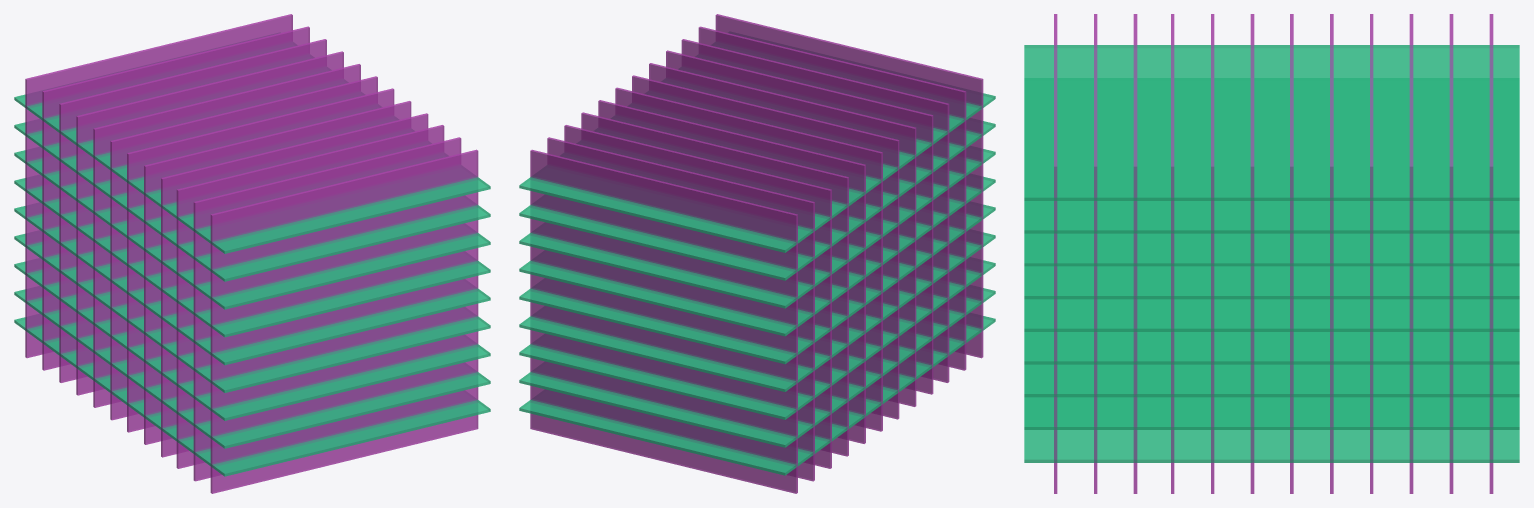
File: cross.glb
The picture shows the model from 3 angles, left to right: view 1: azimuth 30°, elevation 25°; view 2: azimuth 150°, elevation 25°; view 3: azimuth 270°, elevation 25°; orthographic projection. The views are drawn at different scales.
Parts seen in each view (by area): view 1: Cube.002, Cube.022, Cube.024, Cube.019, Cube.018, Cube.015, Cube.003, Cube.016, Cube.001, Cube.013, Cube.017, Cube.014 (+9 smaller); view 2: Cube.018, Cube.002, Cube.024, Cube.014, Cube.001, Cube.017, Cube.003, Cube.015, Cube.019, Cube.016, Cube.013, Cube.022 (+9 smaller); view 3: Cube.012, Cube.010, Cube.006, Cube.007, Cube.011, Cube.009, Cube.008, Cube.005, Cube.004, Cube.019, Cube.022, Cube.013 (+9 smaller).
Part boxes in pixels (x1,y1,x2,y2): Cube.002: [210, 149, 478, 493]; Cube.022: [176, 125, 444, 468]; Cube.024: [193, 137, 461, 481]; Cube.019: [42, 26, 309, 370]; Cube.018: [25, 14, 292, 358]; Cube.015: [93, 64, 360, 407]; Cube.003: [59, 39, 326, 382]; Cube.016: [76, 51, 343, 395]; Cube.001: [144, 101, 411, 444]; Cube.013: [127, 88, 394, 432]; Cube.017: [110, 76, 377, 420]; Cube.014: [161, 113, 428, 457]; Cube.018: [530, 149, 797, 493]; Cube.002: [715, 14, 983, 358]; Cube.024: [698, 26, 966, 370]; Cube.014: [666, 50, 933, 394]; Cube.001: [649, 63, 916, 406]; Cube.017: [615, 87, 882, 431]; Cube.003: [564, 125, 831, 468]; Cube.015: [598, 100, 865, 443]; Cube.019: [547, 137, 814, 481]; Cube.016: [581, 112, 848, 456]; Cube.013: [632, 75, 899, 419]; Cube.022: [681, 39, 949, 382]; Cube.012: [1024, 45, 1519, 200]; Cube.010: [1024, 266, 1519, 299]; Cube.006: [1024, 233, 1519, 266]; Cube.007: [1024, 364, 1519, 397]; Cube.011: [1024, 397, 1519, 429]; Cube.009: [1024, 299, 1519, 331]; Cube.008: [1024, 201, 1519, 233]; Cube.005: [1024, 332, 1519, 364]; Cube.004: [1024, 430, 1519, 462]; Cube.019: [1449, 14, 1453, 493]; Cube.022: [1133, 14, 1137, 493]; Cube.013: [1250, 14, 1254, 493].
Size of the model in its own units: 2 by 2 by 2.74.
